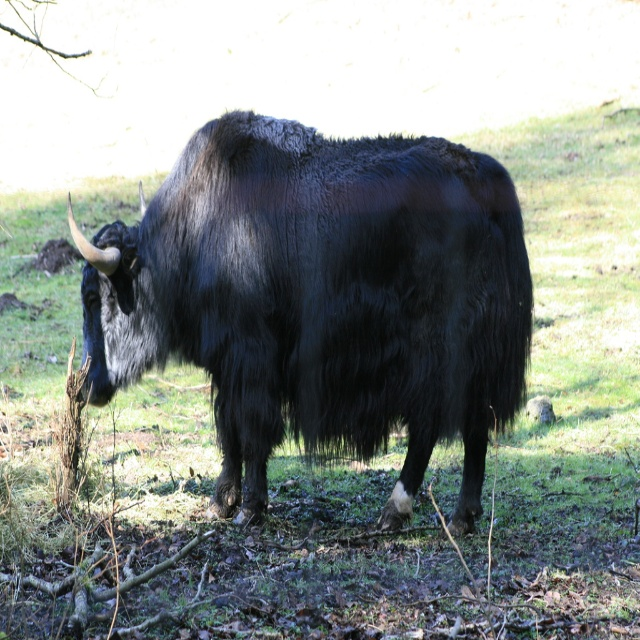Cattle: (66, 106, 536, 536)
